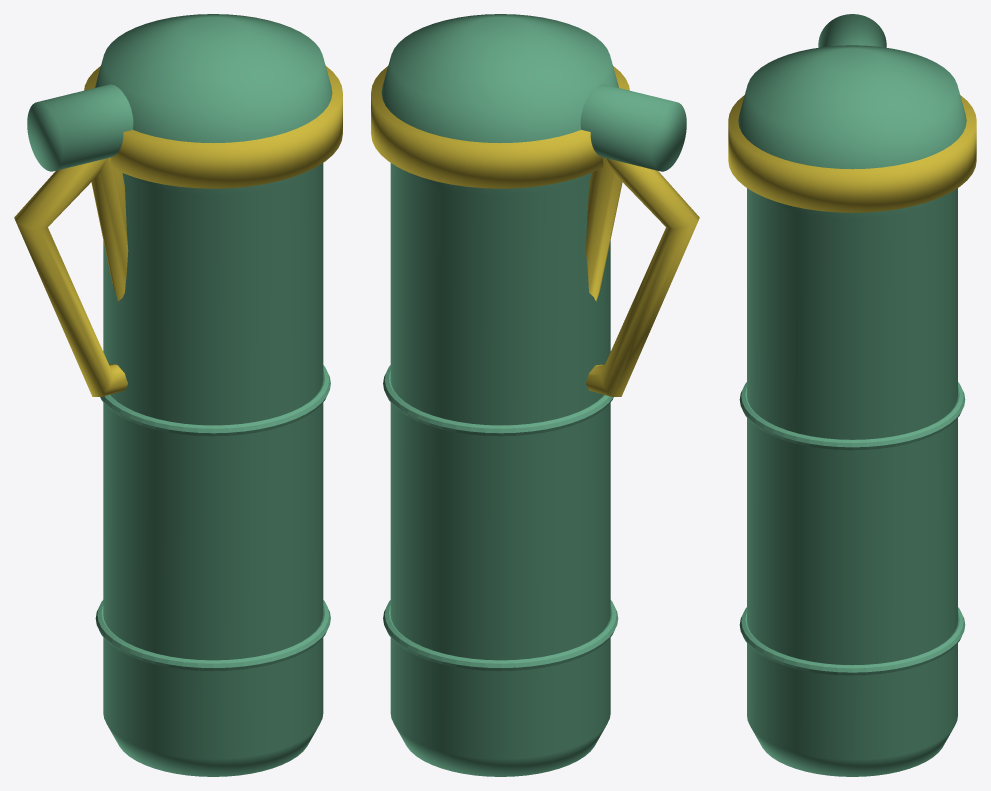
3 views of the same model, side by side, from view 1: azimuth 30°, elevation 25°; view 2: azimuth 150°, elevation 25°; view 3: azimuth 270°, elevation 25° (orthographic). The views are drawn at different scales.
Visible parts, largest first — view 1: TI072 / tall preparation cylinder, TI072 / trigger loop, TI072 / yellow neck collar, TI072 / spray nozzle, TI072 / sprayer body seam, TI072 / sprayer body seam.001; view 2: TI072 / tall preparation cylinder, TI072 / trigger loop, TI072 / yellow neck collar, TI072 / spray nozzle, TI072 / sprayer body seam, TI072 / sprayer body seam.001; view 3: TI072 / tall preparation cylinder, TI072 / yellow neck collar, TI072 / sprayer body seam, TI072 / sprayer body seam.001, TI072 / spray nozzle.
Part boxes in pixels (bbox=[...]): TI072 / tall preparation cylinder: bbox=[95, 14, 332, 776]; TI072 / trigger loop: bbox=[14, 157, 128, 396]; TI072 / yellow neck collar: bbox=[84, 66, 342, 188]; TI072 / spray nozzle: bbox=[27, 84, 133, 171]; TI072 / sprayer body seam: bbox=[95, 600, 330, 671]; TI072 / sprayer body seam.001: bbox=[100, 365, 330, 436]; TI072 / tall preparation cylinder: bbox=[381, 14, 618, 776]; TI072 / trigger loop: bbox=[585, 157, 699, 396]; TI072 / yellow neck collar: bbox=[371, 66, 629, 188]; TI072 / spray nozzle: bbox=[580, 84, 686, 171]; TI072 / sprayer body seam: bbox=[383, 600, 618, 671]; TI072 / sprayer body seam.001: bbox=[383, 365, 613, 436]; TI072 / tall preparation cylinder: bbox=[738, 45, 966, 776]; TI072 / yellow neck collar: bbox=[728, 95, 976, 212]; TI072 / sprayer body seam: bbox=[739, 607, 965, 675]; TI072 / sprayer body seam.001: bbox=[739, 382, 965, 450]; TI072 / spray nozzle: bbox=[818, 14, 886, 47].
Bounding box in the file's own units: 1.1 × 2.4 × 0.8.
